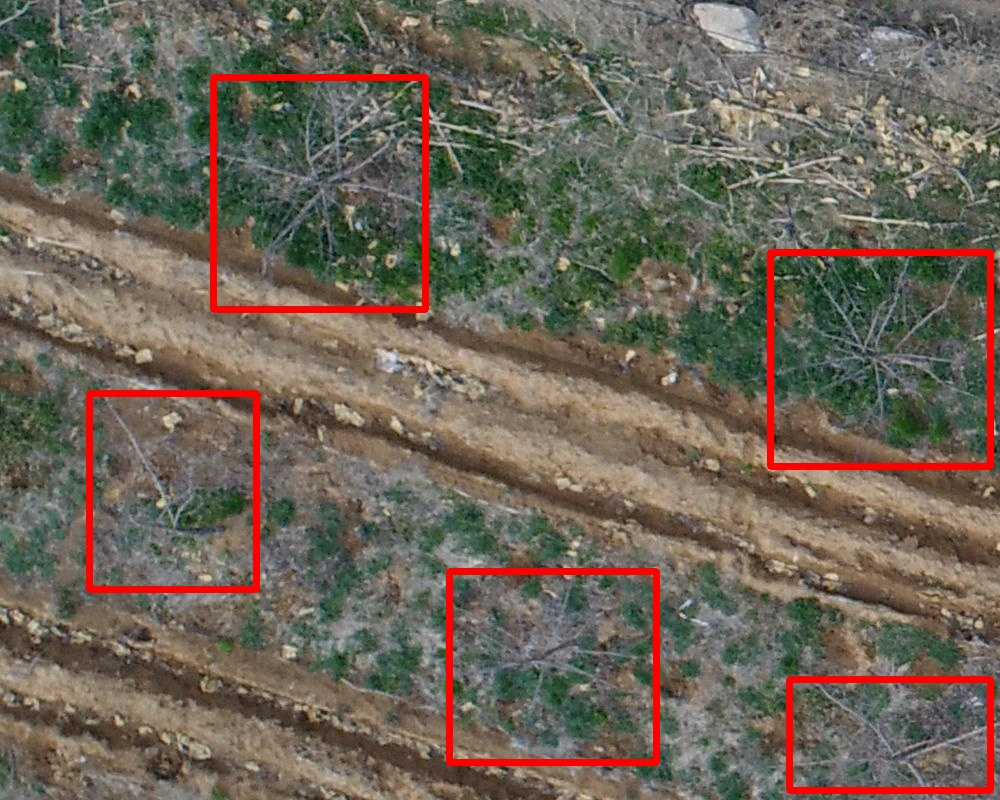apple: (213, 77, 425, 309), (770, 252, 990, 466), (449, 571, 656, 762), (89, 393, 256, 589), (789, 679, 990, 790)
